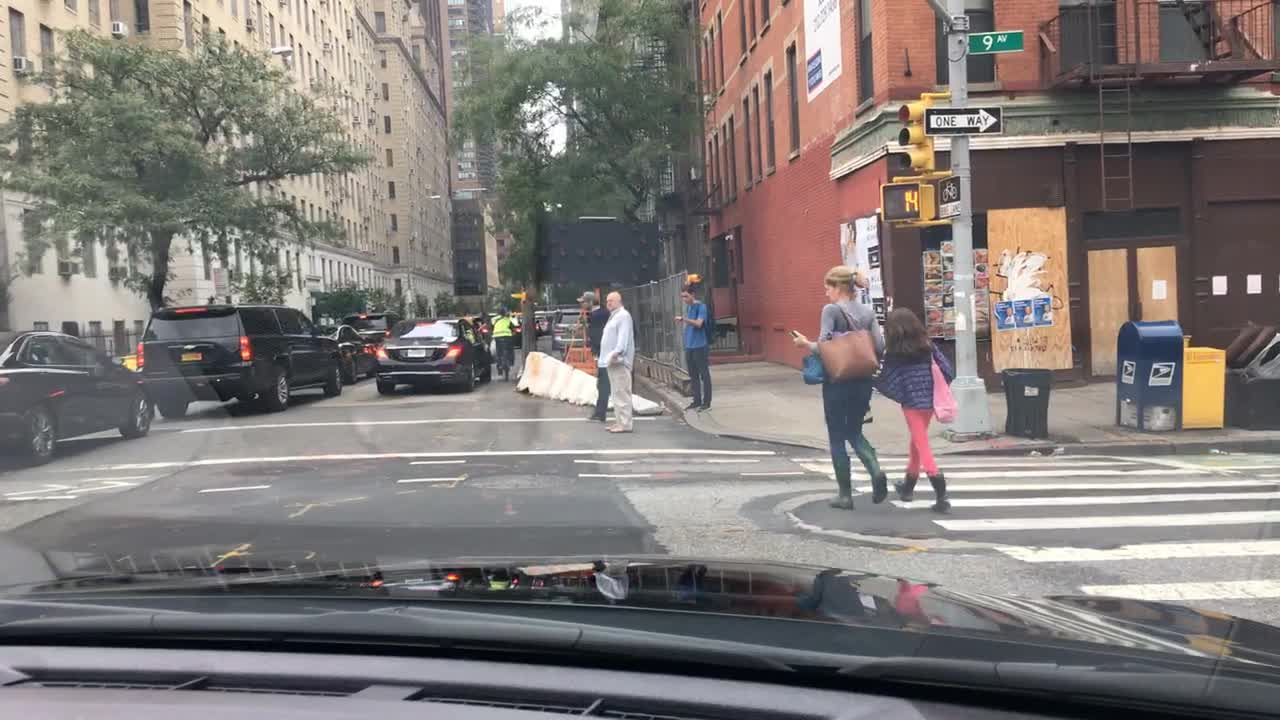bike: (485, 329, 516, 381)
car: (132, 301, 349, 421), (1, 330, 160, 466), (371, 314, 495, 393), (314, 321, 380, 386), (549, 308, 592, 350), (460, 313, 492, 369), (360, 328, 395, 375), (340, 311, 406, 331), (532, 310, 554, 335), (509, 315, 526, 346)
person: (786, 262, 890, 512), (875, 306, 960, 516), (593, 290, 638, 435), (673, 281, 716, 416), (576, 288, 611, 426)
rider: (487, 306, 516, 366)
traffic light: (880, 174, 935, 225), (897, 98, 935, 169)
traffic sign: (924, 104, 1003, 136), (965, 28, 1025, 54), (935, 173, 964, 219)
